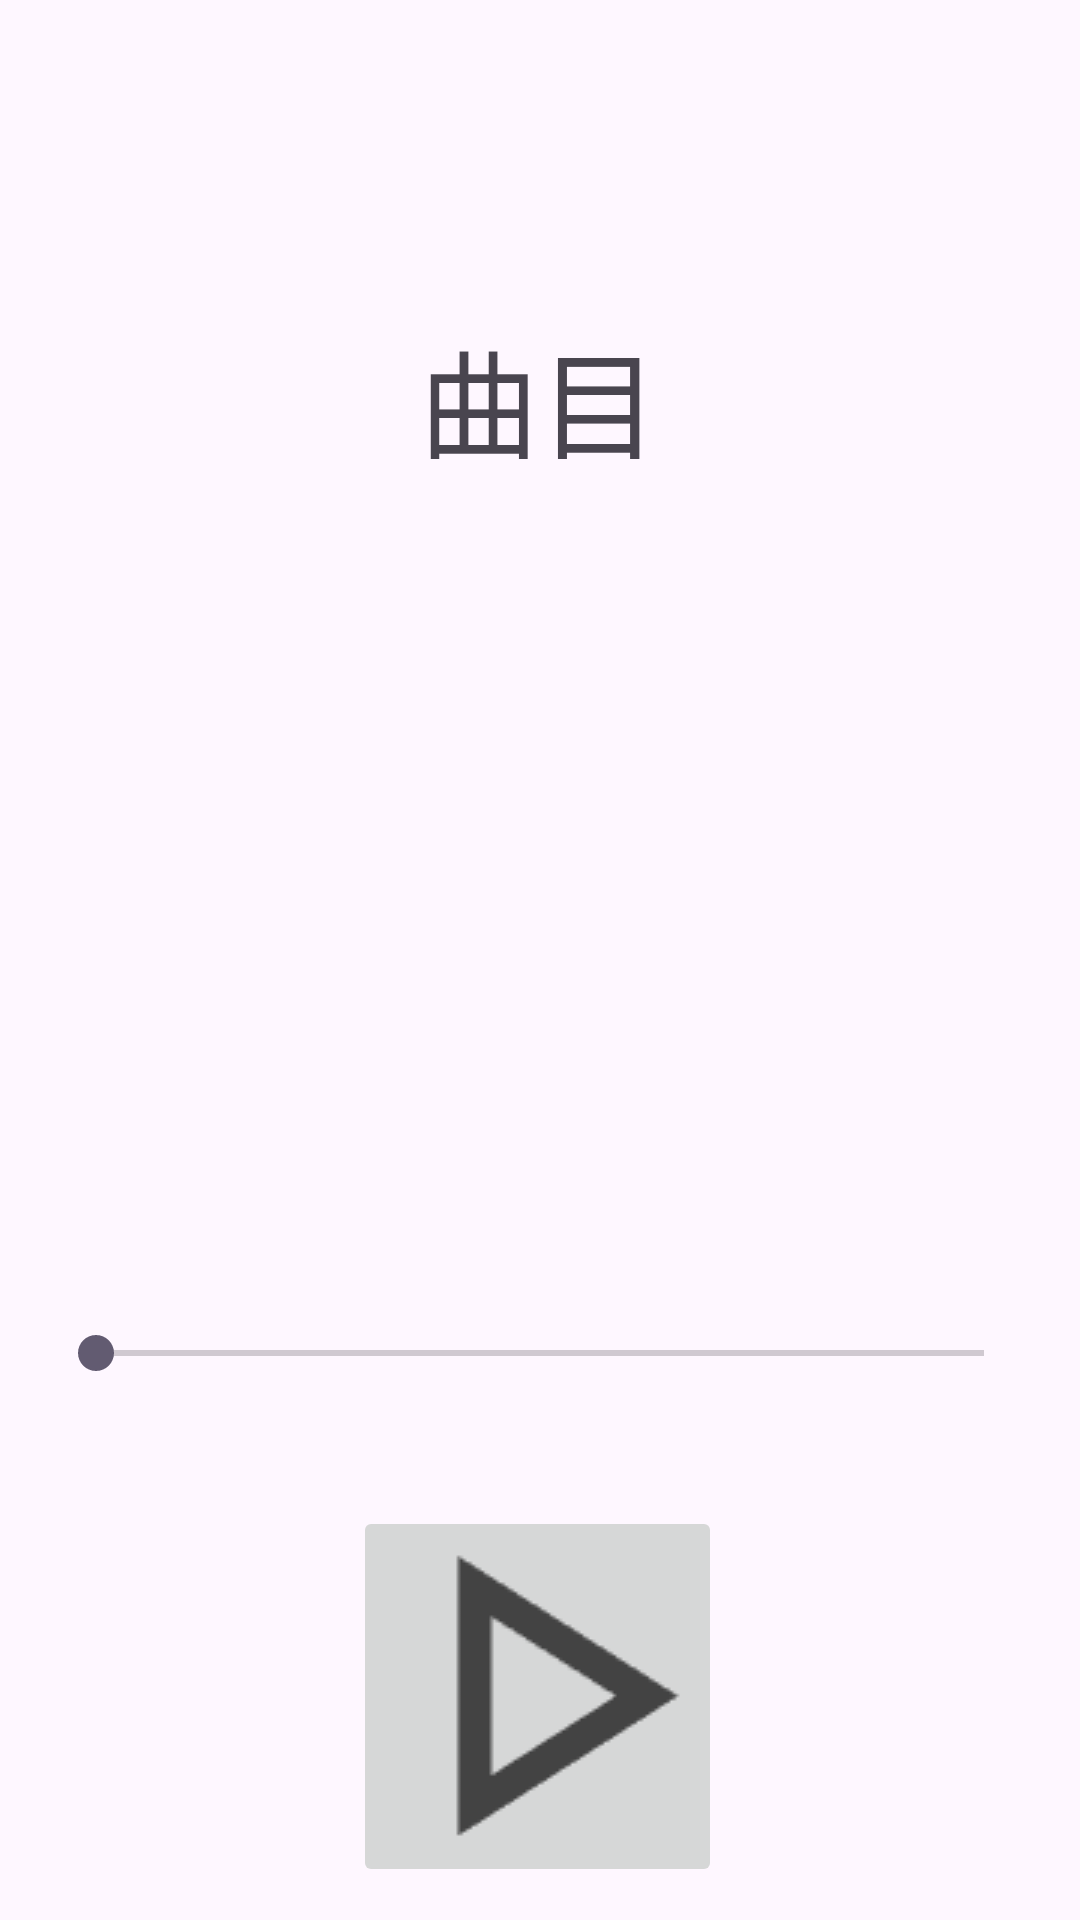

Icon bounding boxes for this 1080px×1920px phone screenshot, format (x1, y1, x2, y2):
play: (365, 1524, 710, 1869)
